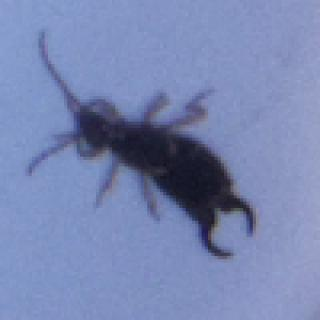earwig: (25, 22, 258, 266)
